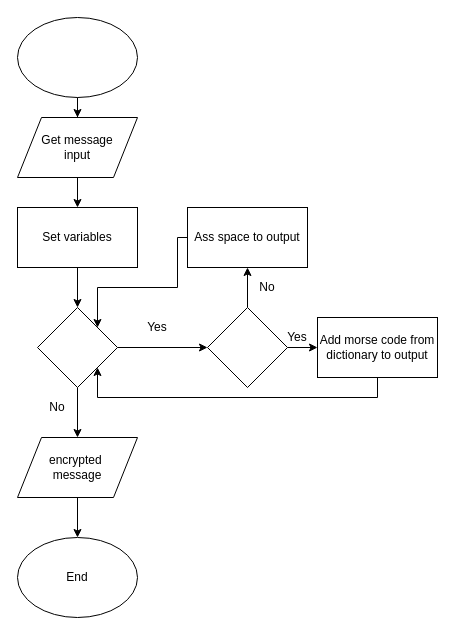
Some shapes in this 455 by 635 pixel diagram are drawn without their labels. Here are the shapes that lost their labels. From the top down, the box of each, then its label:
(16, 16, 138, 98): Start
(36, 306, 118, 388): For i in message
(206, 306, 288, 388): if i != " "
